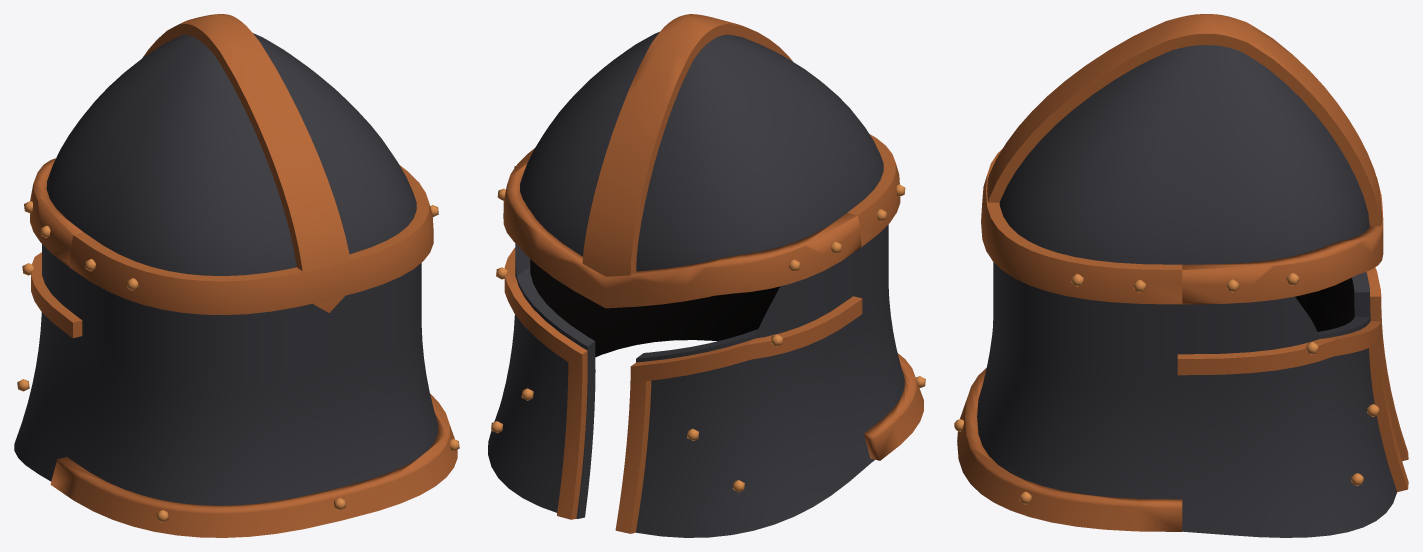
Rendered from CasqueBronzeFer.fbx.
The picture shows the model from 3 angles, left to right: view 1: azimuth 30°, elevation 25°; view 2: azimuth 150°, elevation 25°; view 3: azimuth 270°, elevation 25°; orthographic projection. The views are drawn at different scales.
Visible parts, largest first — view 1: FerSombre, Bronze, BronzeClair; view 2: FerSombre, Bronze, Doublure, BronzeClair; view 3: FerSombre, Bronze, Doublure, BronzeClair.
Part boxes in pixels (<box>): FerSombre: <box>14,33,437,505</box>; Bronze: <box>30,14,457,537</box>; BronzeClair: <box>17,182,459,522</box>; FerSombre: <box>488,31,904,537</box>; Bronze: <box>503,14,923,533</box>; Doublure: <box>530,259,779,357</box>; BronzeClair: <box>491,166,925,492</box>; FerSombre: <box>977,45,1396,537</box>; Bronze: <box>957,14,1408,531</box>; Doublure: <box>1295,277,1354,331</box>; BronzeClair: <box>954,273,1379,504</box>.
Bounding box in the file's own units: 191 × 227 × 202.
